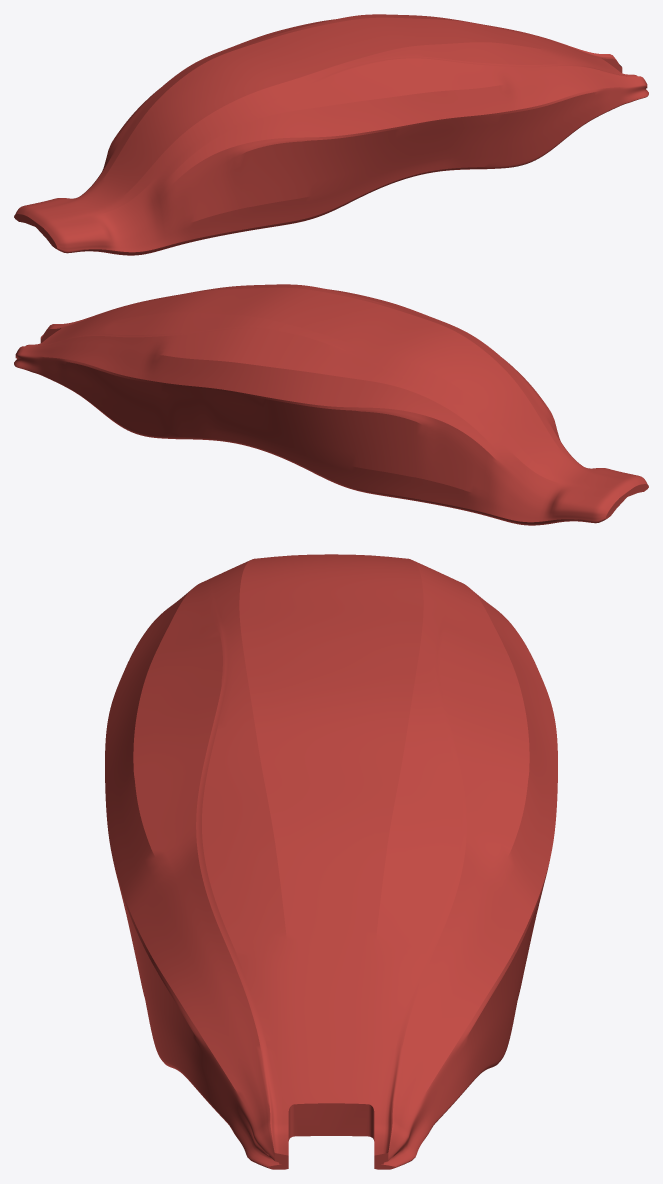
Rendered from sports_tourer_2.glb.
3 renders of one model, top to bottom at view 1: azimuth 30°, elevation 25°; view 2: azimuth 150°, elevation 25°; view 3: azimuth 270°, elevation 25°, orthographic. The views are drawn at different scales.
Visible parts, largest first — view 1: sports_tourer_2; view 2: sports_tourer_2; view 3: sports_tourer_2.
Boxes of the visible parts, left/top/right/bottom form: sports_tourer_2: left=14, top=14, right=648, bottom=255; sports_tourer_2: left=14, top=284, right=648, bottom=525; sports_tourer_2: left=105, top=554, right=557, bottom=1169.
Bounding box in the file's own units: 1.29 × 0.2849 × 0.422.
